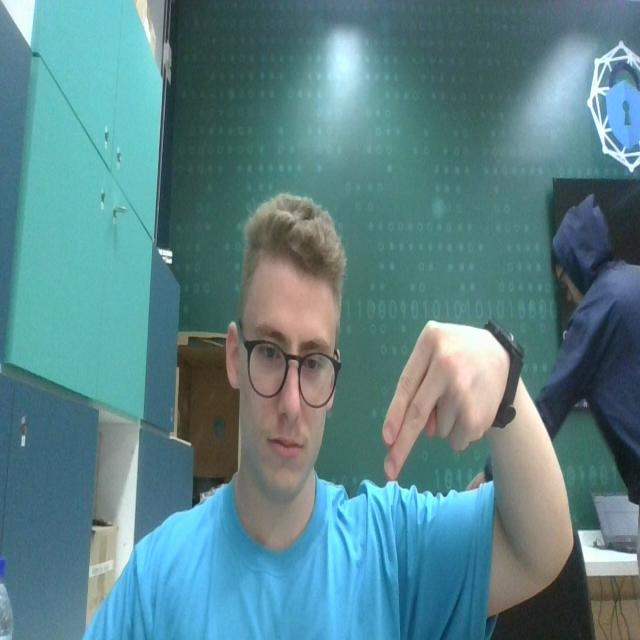N: (378, 300, 508, 484)
